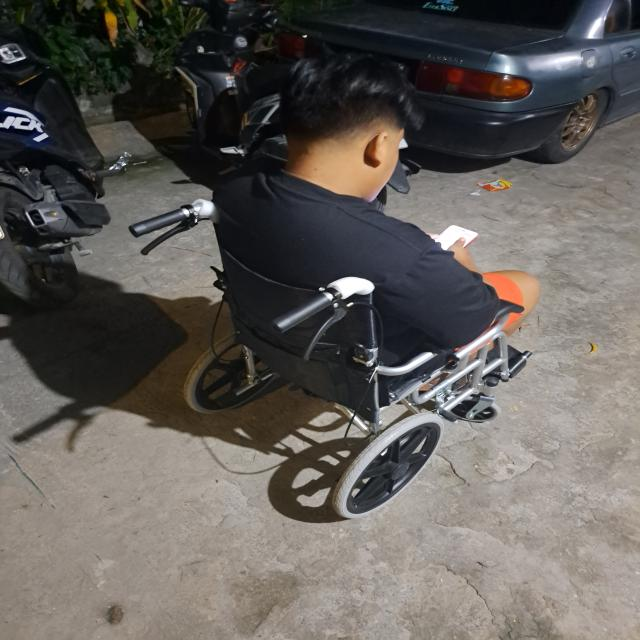wheelchairs: (120, 190, 553, 530)
